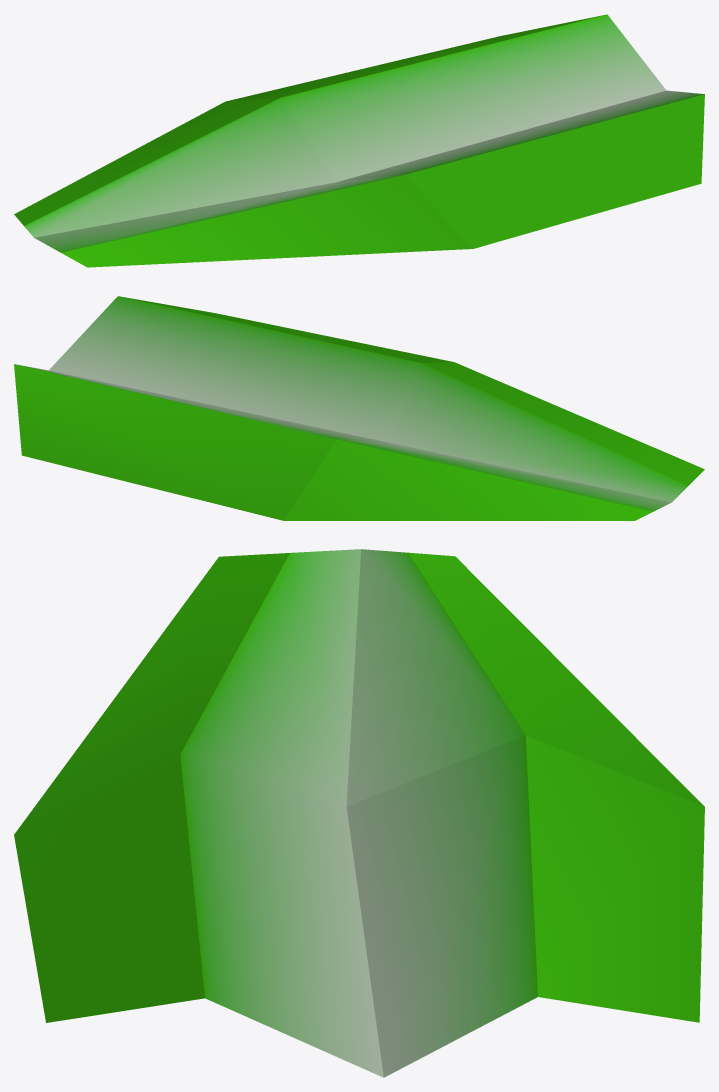
The model's file is GreenLeaf.glb.
The picture shows the model from 3 angles, top to bottom: view 1: azimuth 30°, elevation 25°; view 2: azimuth 150°, elevation 25°; view 3: azimuth 270°, elevation 25°; orthographic projection. The views are drawn at different scales.
Parts seen in each view (by area): view 1: Green Leaf; view 2: Green Leaf; view 3: Green Leaf.
Part boxes in pixels (x1,y1,x2,y2): Green Leaf: [14, 14, 704, 267]; Green Leaf: [14, 296, 704, 520]; Green Leaf: [14, 549, 704, 1077].
Size of the model in its own units: 0.3669 by 0.0242 by 0.2117.
